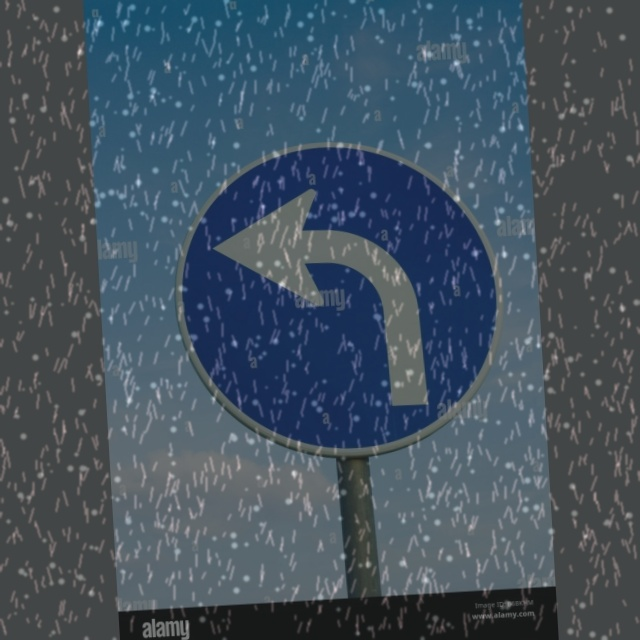Compulsory_Turn_Left_Ahead: (172, 137, 497, 468)
